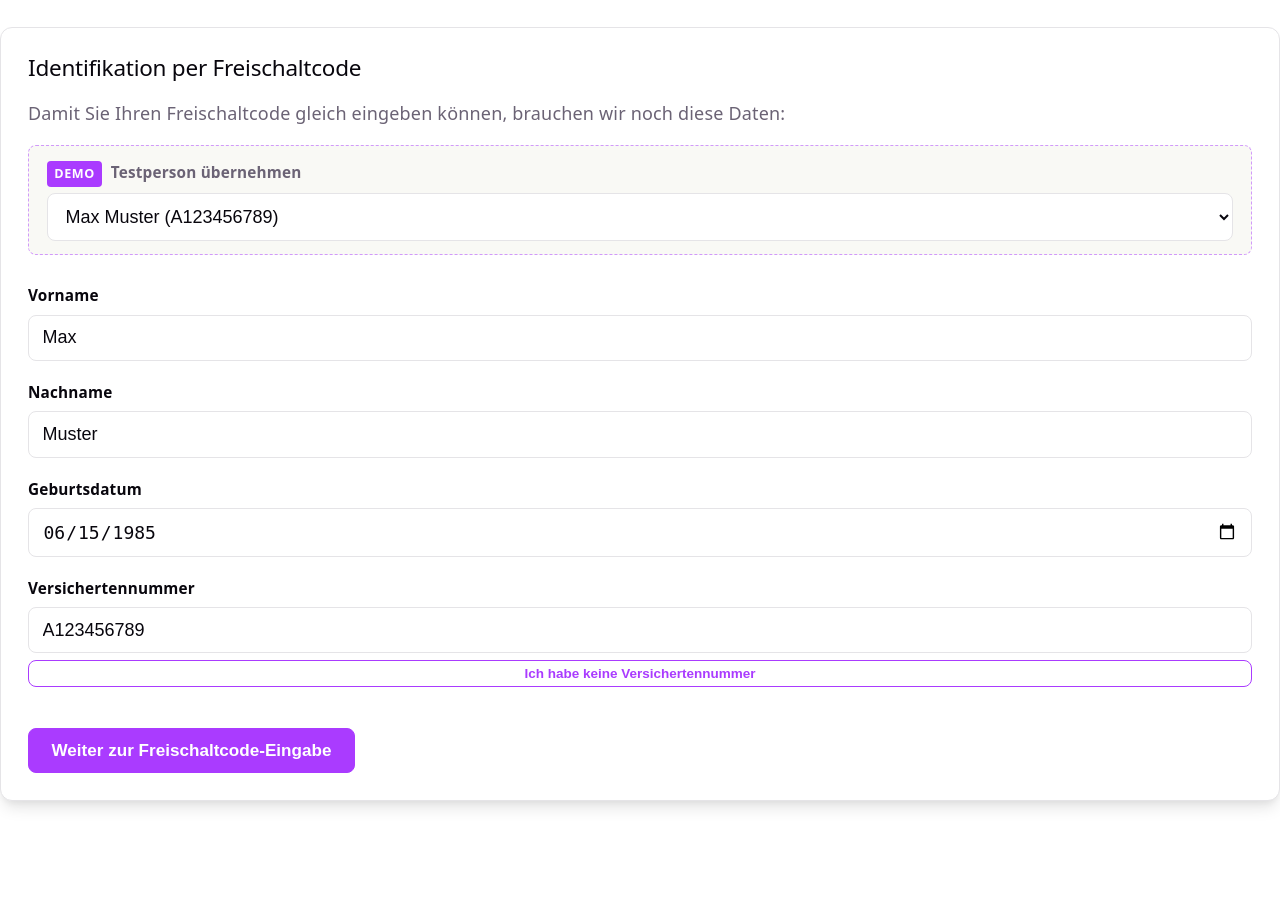
Test: IdentFscForm › keeps the demo-person picker on the person whose data the form holds when going back
The width and height of the screenshot is (1280, 900).
Select "Erika Beispiel (B987654321)" in the dropdown labelled "Demo Testperson übernehmen" at (640, 217), box [47,193,1233,241]
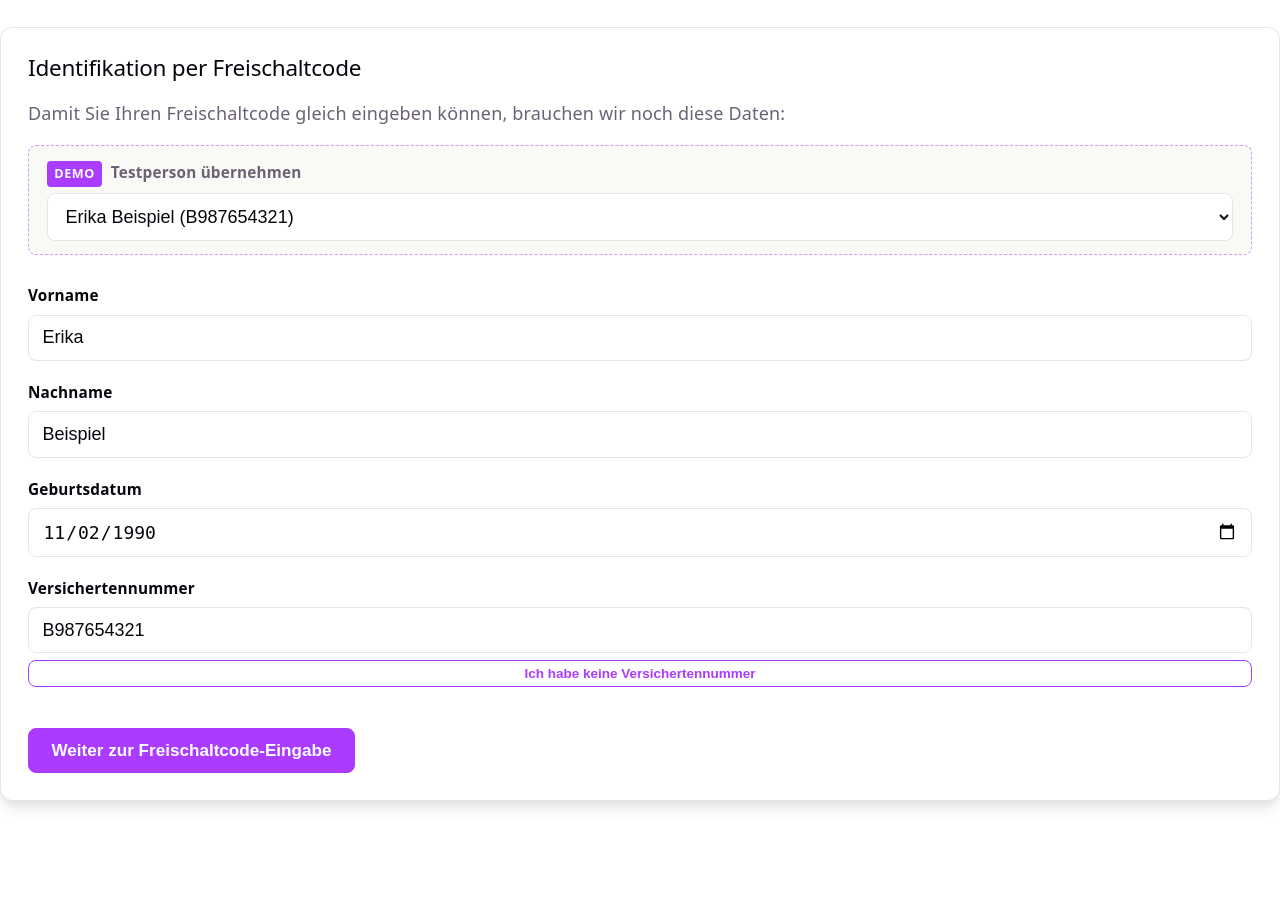
Expected: the field labelled "Vorname" holds "Erika", [28,315,1252,361]
